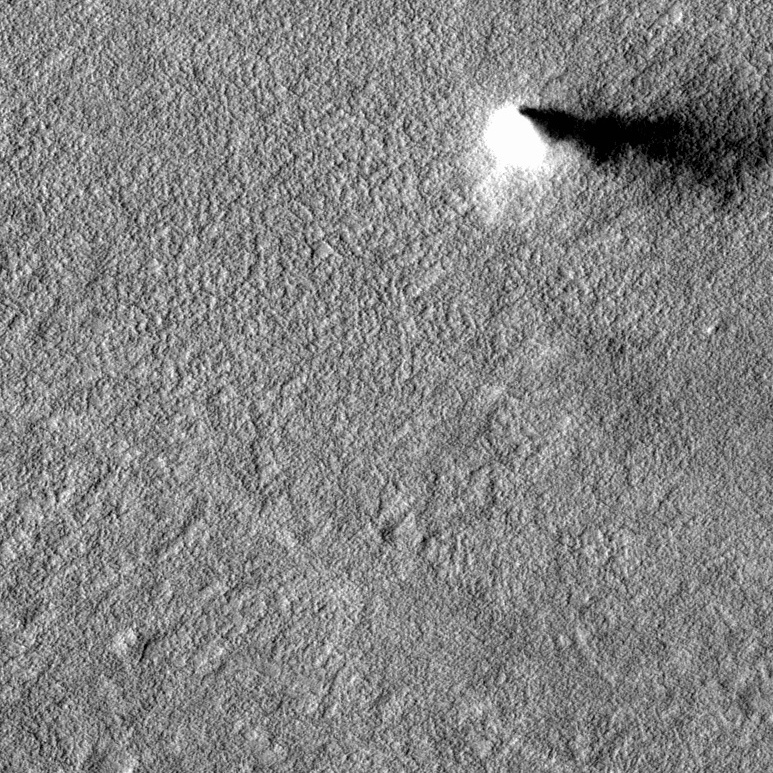dust_devil: (469, 90, 773, 227)
